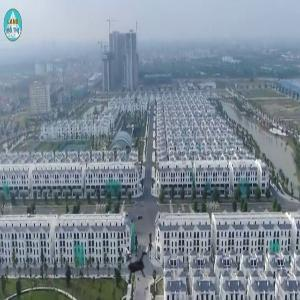drone: (109, 239, 160, 290)
